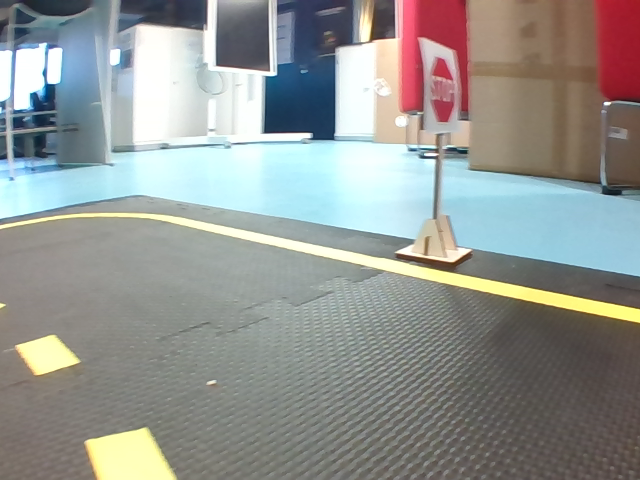stop: (421, 40, 458, 132)
